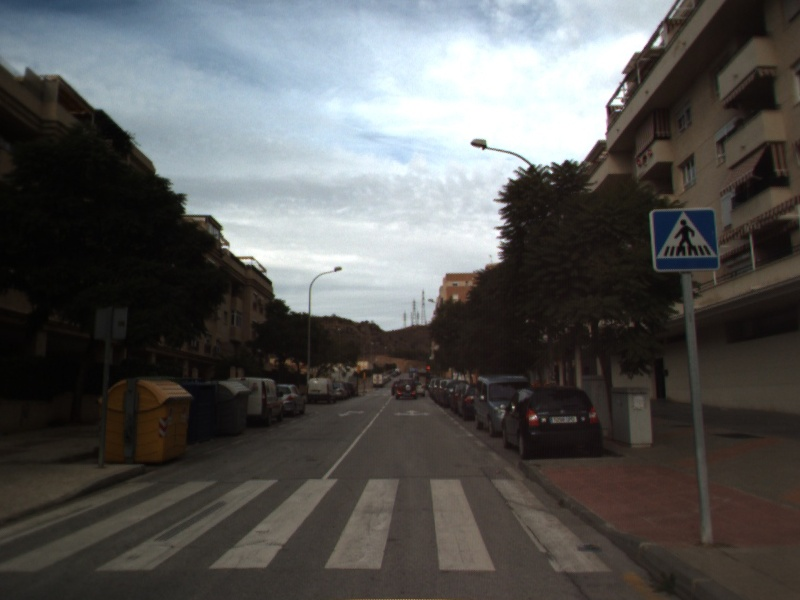STRAIGHT_LEFT_RIGHT: (391, 407, 433, 419)
